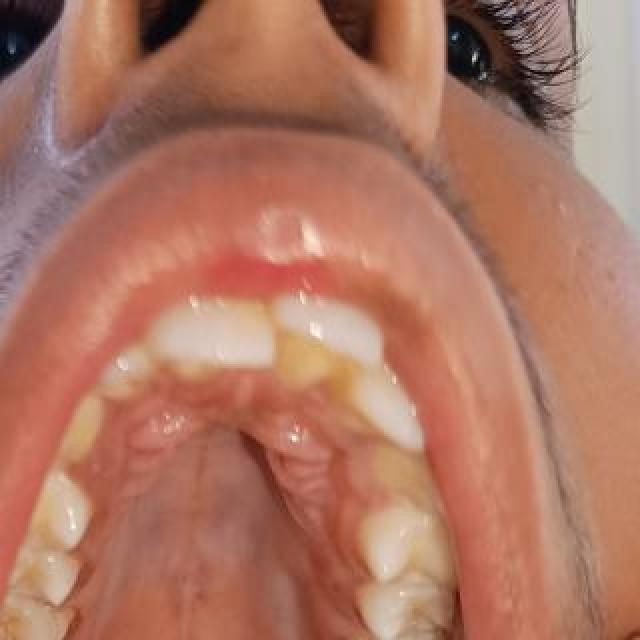maligned: (274, 268, 384, 422), (342, 358, 438, 466)
